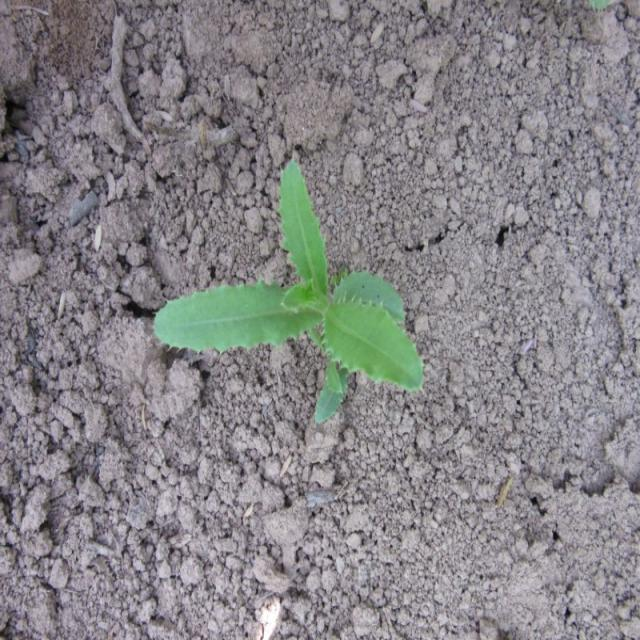field_thistle: (128, 167, 447, 445)
